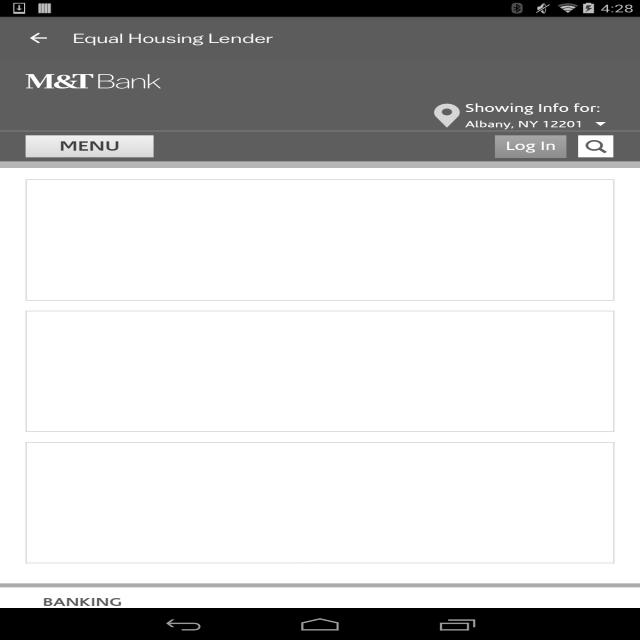Button: (0, 92, 607, 109), (25, 108, 154, 130), (495, 108, 567, 131), (578, 108, 613, 130)
ImageButton: (9, 19, 68, 57)
TextView: (73, 30, 274, 46)
